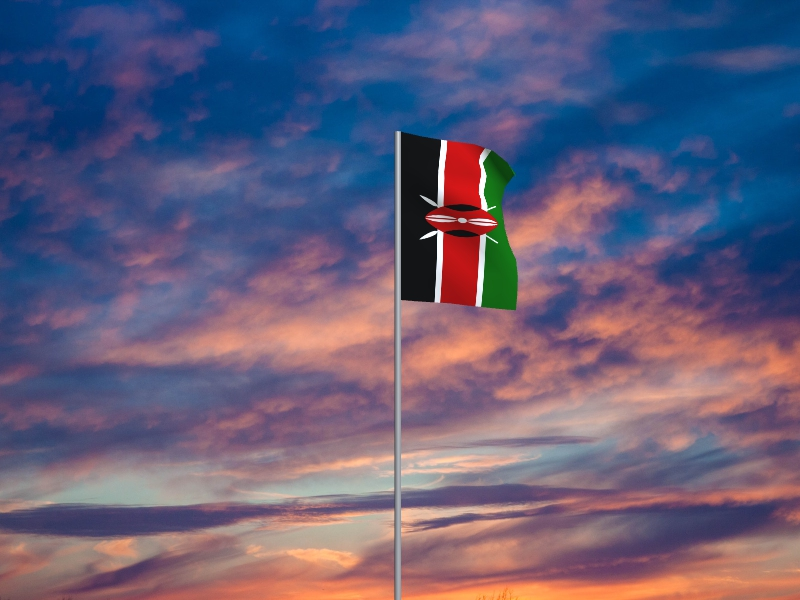ke: (402, 132, 519, 311)
